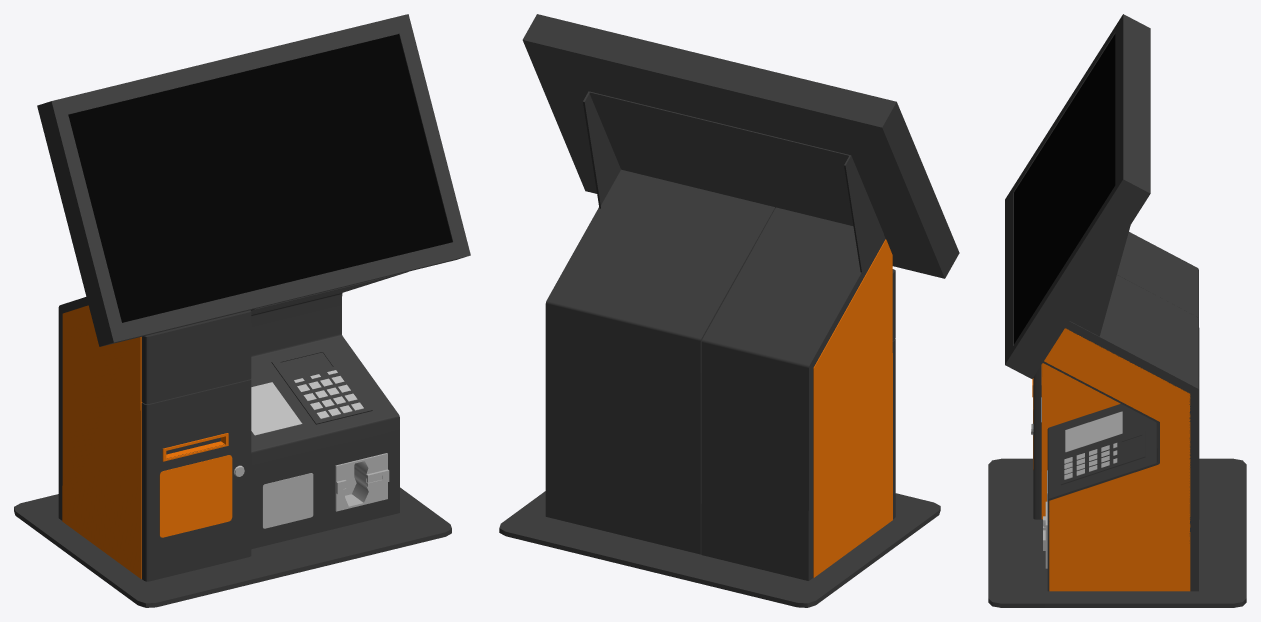
Rendered from UTC_752.fbx.
3 renders of one model, left to right at view 1: azimuth 30°, elevation 25°; view 2: azimuth 150°, elevation 25°; view 3: azimuth 270°, elevation 25°, orthographic. The views are drawn at different scales.
Parts seen in each view (by area): view 1: A, B; view 2: B, A; view 3: B, A.
Boxes of the visible parts, box(x1,y1,x2,y2) form: A: box(37, 14, 470, 346); B: box(14, 271, 451, 607); B: box(499, 169, 940, 607); A: box(522, 14, 959, 278); B: box(988, 232, 1246, 607); A: box(1005, 14, 1150, 378).
Bounding box in the file's own units: 56.1 × 69.46 × 37.01.
